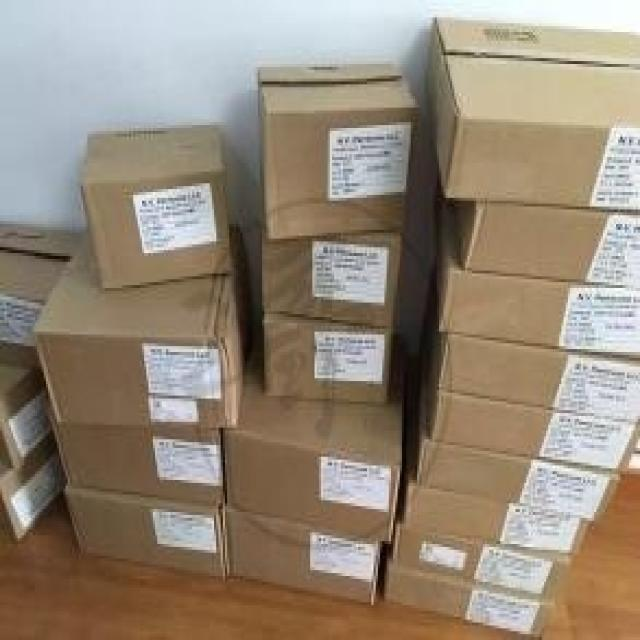box: (28, 224, 256, 425), (217, 321, 409, 544), (421, 21, 638, 215), (432, 171, 638, 358), (423, 320, 638, 479), (425, 268, 638, 425), (414, 371, 621, 524), (258, 60, 421, 242), (403, 424, 592, 569), (79, 125, 232, 287), (396, 490, 568, 607), (385, 541, 554, 637), (65, 481, 229, 579), (452, 202, 638, 288), (225, 502, 383, 601), (261, 223, 403, 326), (53, 422, 220, 507), (0, 218, 85, 372), (264, 307, 389, 399), (0, 420, 66, 546), (0, 362, 54, 470)
